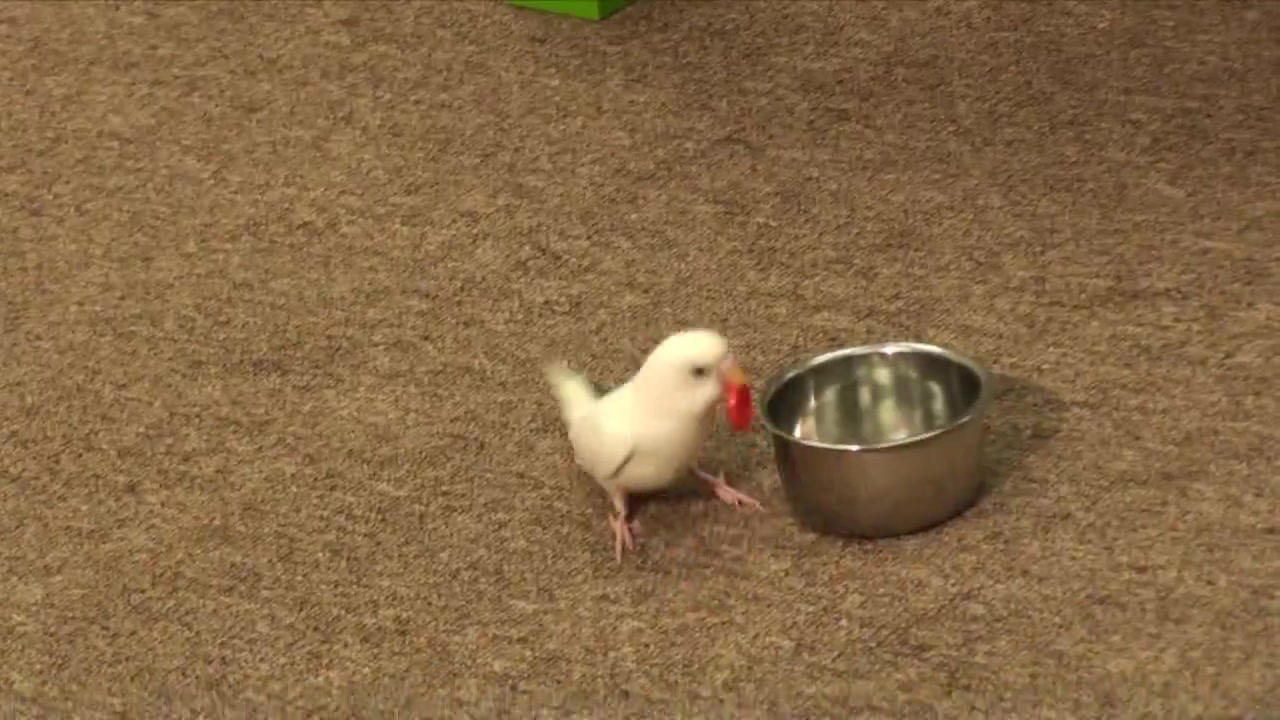bird: (546, 330, 766, 565)
